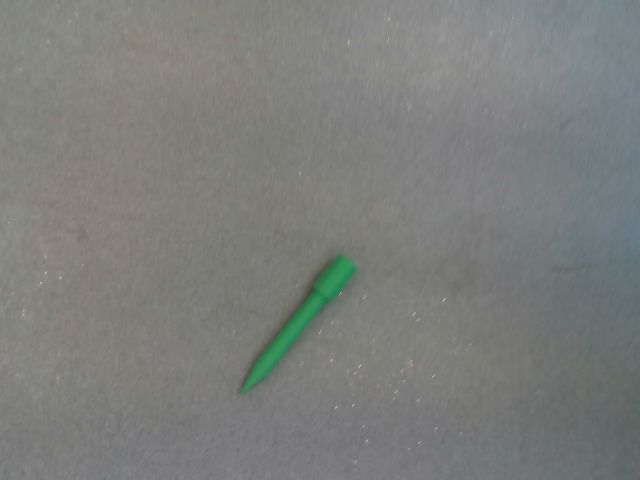Probe: (234, 246, 367, 401)
